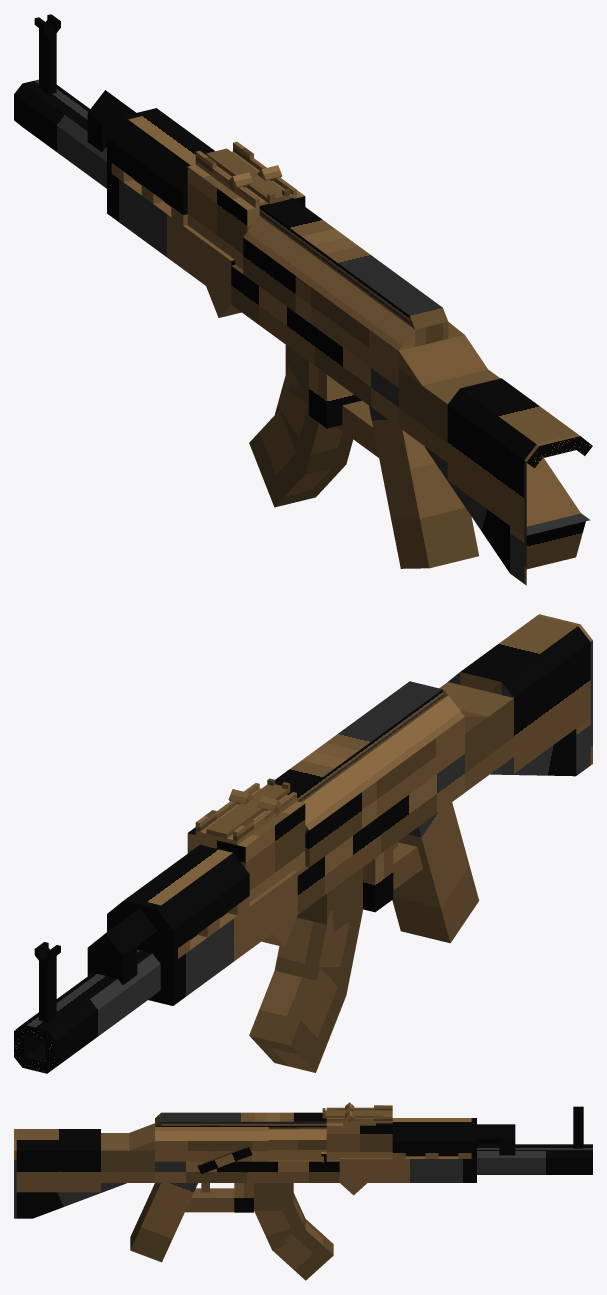
Rendered from mteg_akm.glb.
The picture shows the model from 3 angles, top to bottom: view 1: azimuth 30°, elevation 25°; view 2: azimuth 150°, elevation 25°; view 3: azimuth 270°, elevation 25°; orthographic projection. The views are drawn at different scales.
Parts seen in each view (by area): view 1: Gun; view 2: Gun; view 3: Gun.
Boxes of the visible parts, x1=… form: Gun: x1=14, y1=14, x2=592, y2=585; Gun: x1=14, y1=614, x2=592, y2=1073; Gun: x1=14, y1=1102, x2=592, y2=1280.
Size of the model in its own units: 0.1188 by 0.4362 by 1.37.
Materials: 1 (1 with a texture image).
